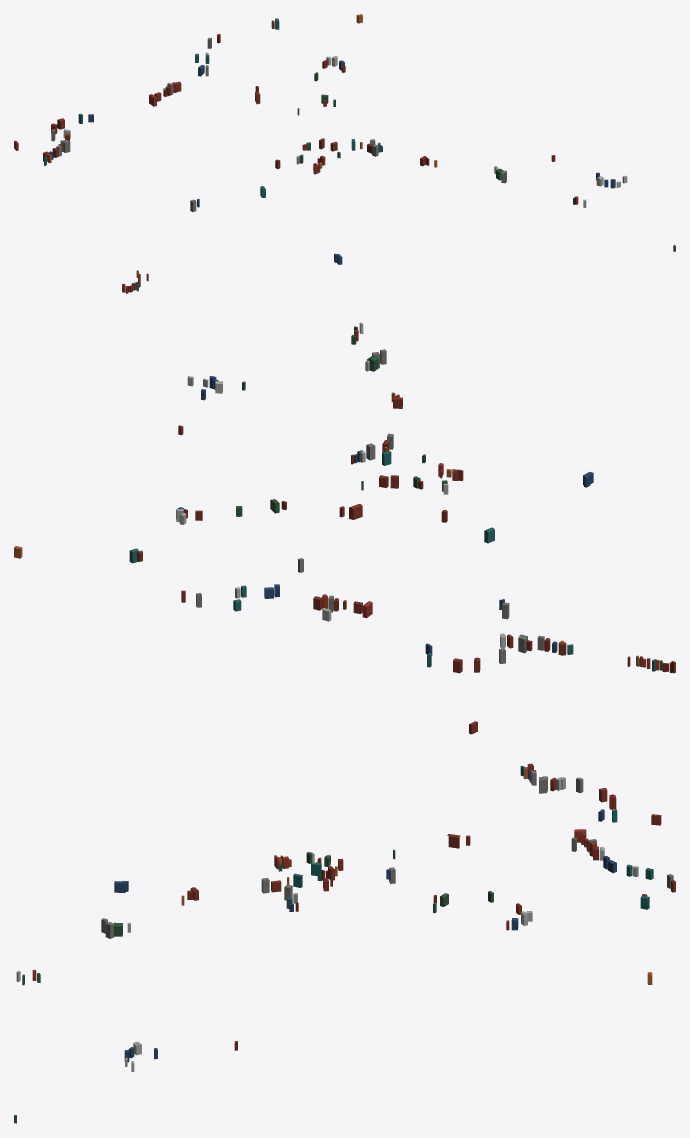
The model's file is near-15-27368-14861.6512b69a.glb.
3 renders of one model, top to bottom at view 1: azimuth 30°, elevation 25°; view 2: azimuth 150°, elevation 25°; view 3: azimuth 270°, elevation 25°, orthographic. The views are drawn at different scales.
Size of the model in its own units: 1153 by 301 by 1146.
